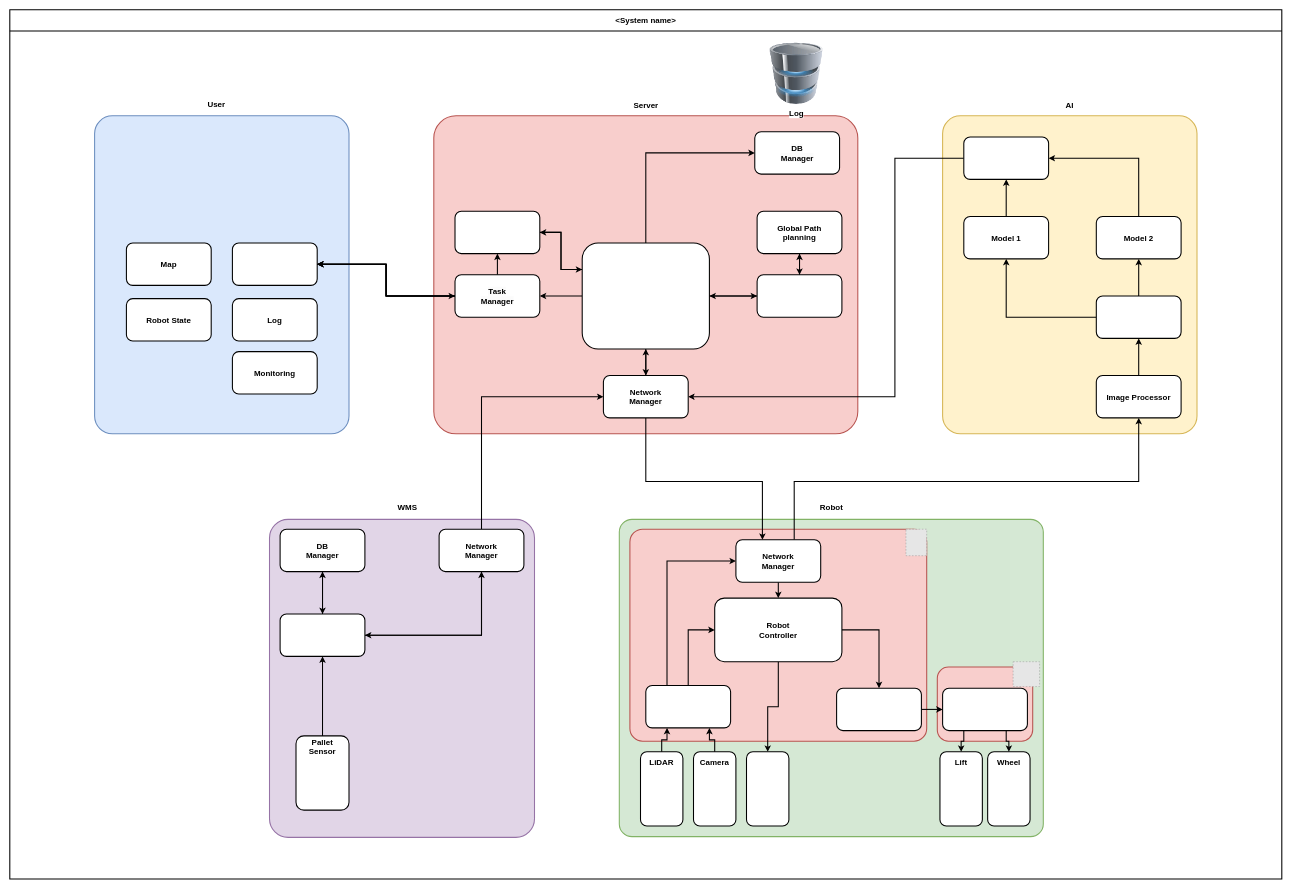
Some shapes in this 1291 by 888 pixel diagram are drawn without their labels. Grey dashed boxes stand in for pictures. Each missing label, with the centre of its shape:
"Central Control Tower" belongs at pixel 645 295.
"Conclusion" belongs at pixel 1006 158.
"Indicator" belongs at pixel 767 788.
"Inventory Management" belongs at pixel 322 635.
"Model Selector" belongs at pixel 1138 317.
"Motion Planner" belongs at pixel 879 709.
"Motor Controller" belongs at pixel 985 709.
"Scheduler" belongs at pixel 497 232.
"Sensor Data Processor" belongs at pixel 688 706.
"Task list" belongs at pixel 274 264.
"Traffic Manager" belongs at pixel 799 295.
